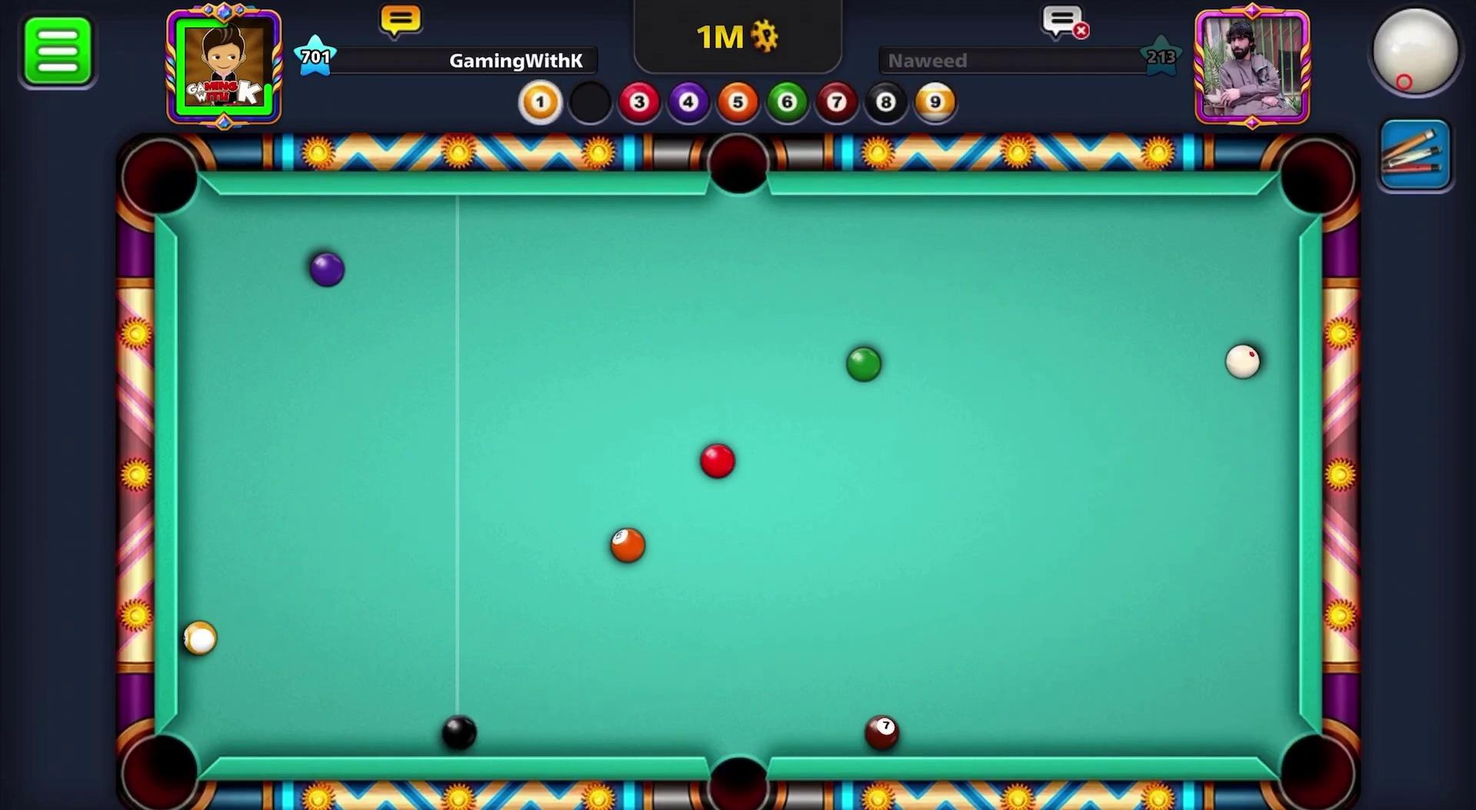Ball: (855, 712, 905, 755), (305, 248, 351, 294), (842, 340, 885, 389), (604, 524, 651, 568), (696, 440, 738, 483), (435, 714, 481, 753), (179, 616, 221, 658)
Hole: (109, 124, 222, 237), (1267, 131, 1366, 231), (109, 715, 213, 809), (1263, 716, 1366, 809), (699, 123, 778, 206), (688, 742, 785, 809)
Play_Area: (174, 194, 1298, 760)
Spin: (1347, 0, 1475, 119)
White: (1221, 333, 1268, 389)
